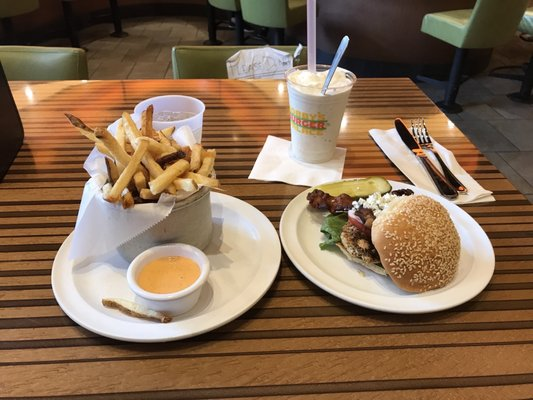salad: (321, 35, 351, 94)
sandwich: (393, 119, 452, 199)
sushi: (126, 243, 210, 315), (133, 94, 205, 147)
